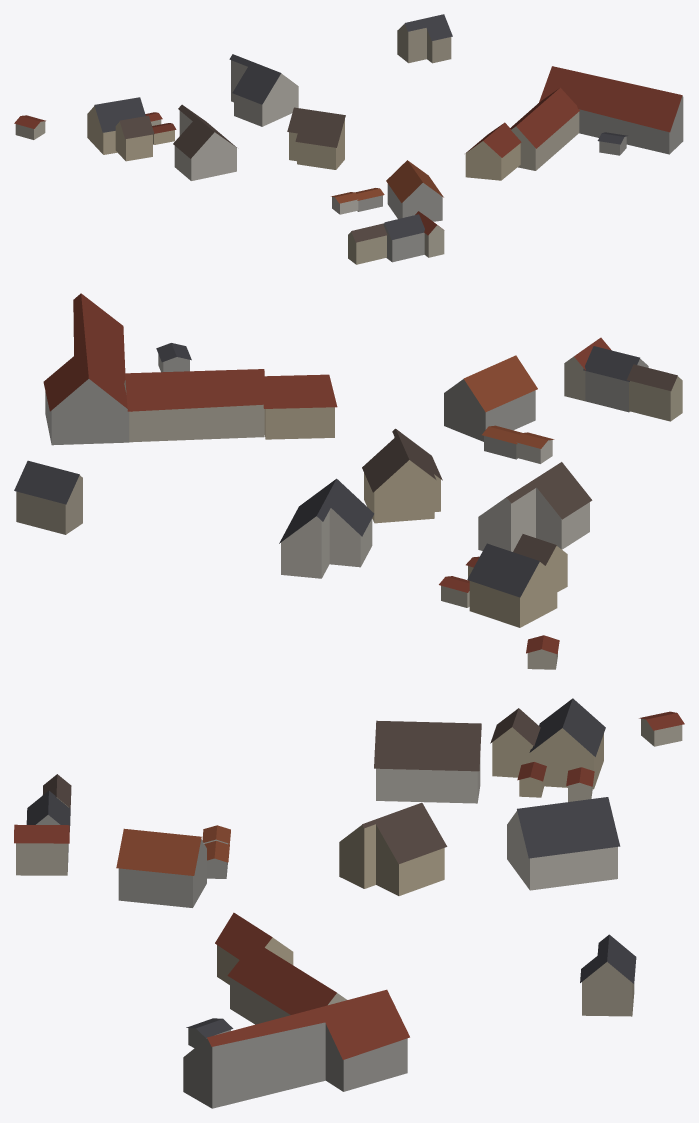
3 views of the same model, one above another, from view 1: azimuth 30°, elevation 25°; view 2: azimuth 150°, elevation 25°; view 3: azimuth 270°, elevation 25° (orthographic). The views are drawn at different scales.
Visible parts, largest first — view 1: buildings; view 2: buildings; view 3: buildings.
Boxes of the visible parts, x1=… form: buildings: x1=14, y1=14, x2=683, y2=264; buildings: x1=14, y1=293, x2=682, y2=669; buildings: x1=14, y1=698, x2=684, y2=1108.
Bounding box in the file's own units: 136 × 17.34 × 107.
